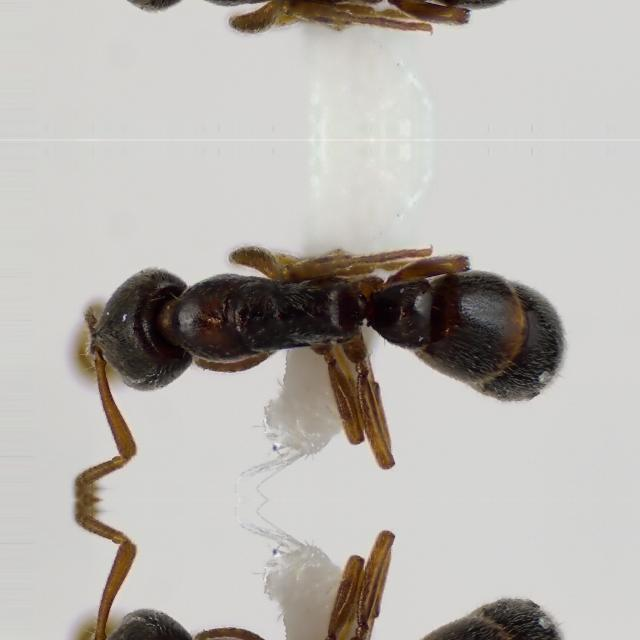Ponera: (25, 206, 583, 464), (25, 536, 583, 640), (25, 0, 583, 74)
